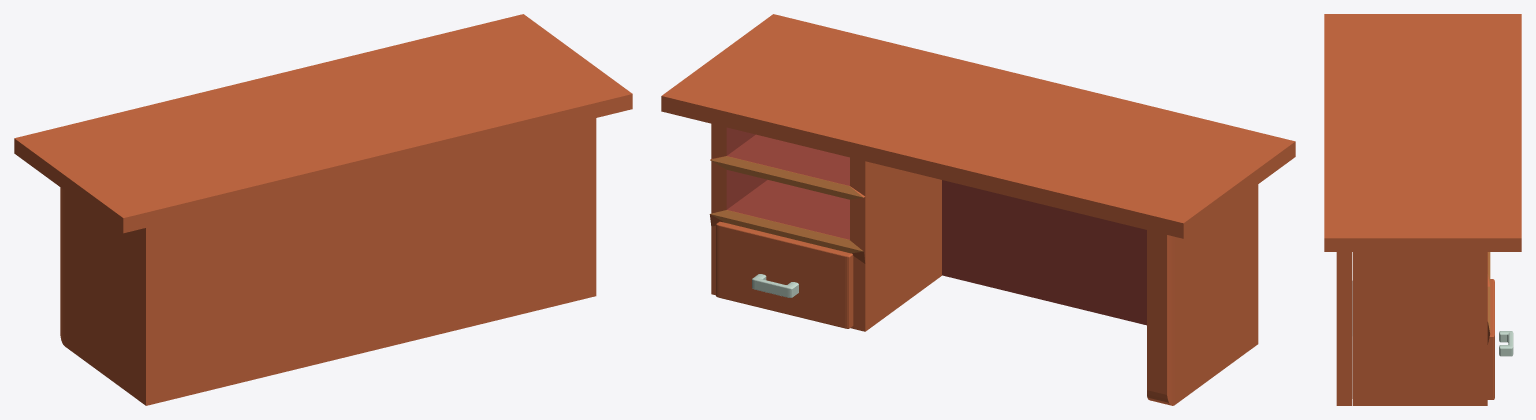
The model's file is G477Proj2Desk.fbx.
3 views of the same model, side by side, from view 1: azimuth 30°, elevation 25°; view 2: azimuth 150°, elevation 25°; view 3: azimuth 270°, elevation 25° (orthographic). The views are drawn at different scales.
Parts seen in each view (by area): view 1: DeskMain; view 2: DeskMain, DeskDrawer; view 3: DeskMain, DeskDrawer.
Part boxes in pixels (left/top/right/bottom): DeskMain: left=14, top=14, right=632, bottom=405; DeskMain: left=661, top=14, right=1295, bottom=405; DeskDrawer: left=716, top=221, right=853, bottom=328; DeskMain: left=1324, top=14, right=1521, bottom=405; DeskDrawer: left=1352, top=279, right=1513, bottom=399.
Bounding box in the file's own units: 202 × 75.78 × 75.
